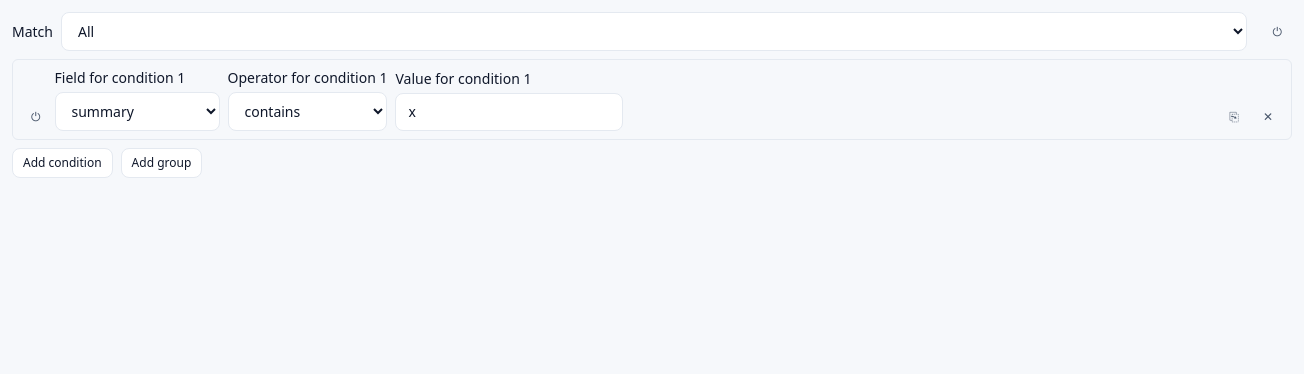
Test case: GroupEditor › adds a nested group seeded with one blank condition
What coordinates should you click on to do the following:
click the button "Add group"
I would click on:
 (161, 163)
Its box is [121, 148, 202, 178].
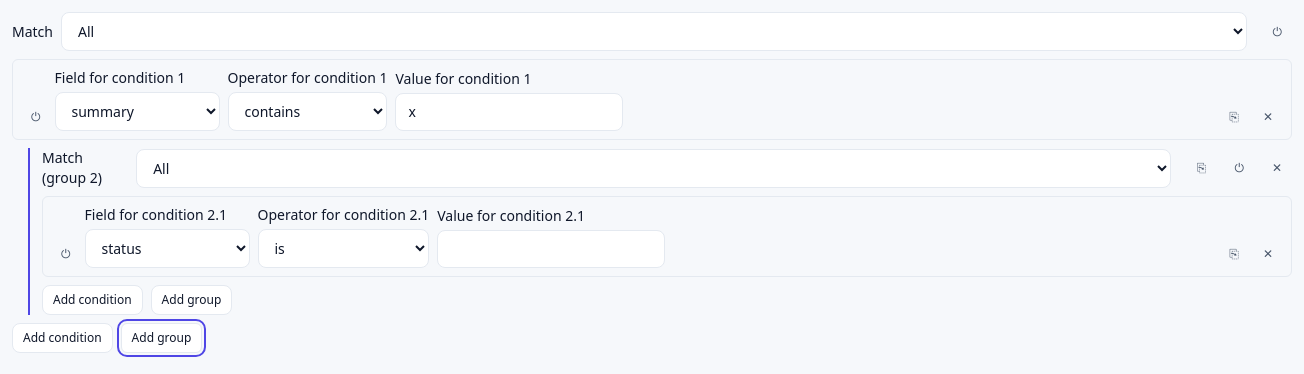
Now the dropdown labelled "Field for condition 2.1" shows "status", box [84, 229, 250, 268]
